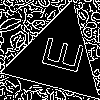E: (32, 32, 85, 76)
